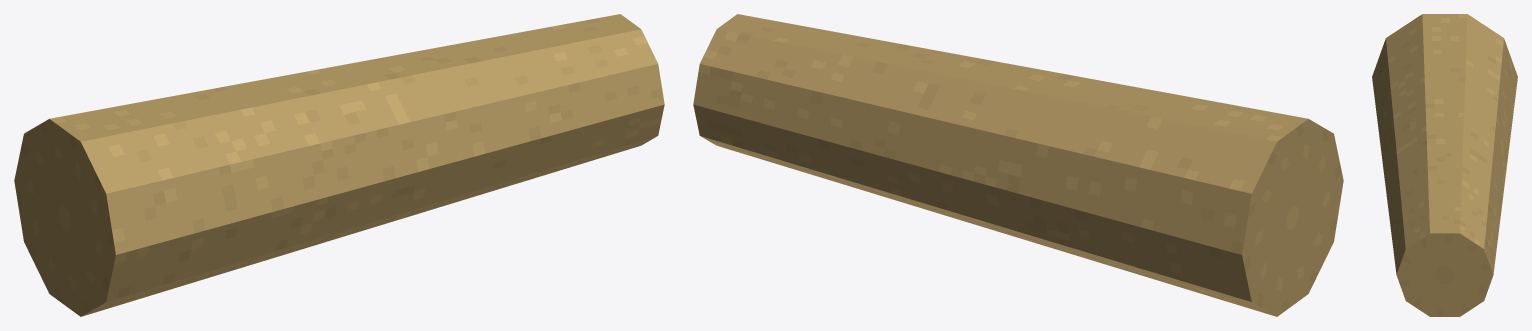
Rendered from empty_corn_cob.glb.
3 renders of one model, left to right at view 1: azimuth 30°, elevation 25°; view 2: azimuth 150°, elevation 25°; view 3: azimuth 270°, elevation 25°, orthographic. The views are drawn at different scales.
Visible parts, largest first — view 1: block_cob core; view 2: block_cob core; view 3: block_cob core.
Boxes of the visible parts, box(x1,y1,x2,y2) form: block_cob core: box(14, 14, 664, 316); block_cob core: box(693, 14, 1343, 316); block_cob core: box(1372, 14, 1517, 316).
Size of the model in its own units: 0.087 by 0.0257 by 0.0271.
Materials: 1 (1 with a texture image).
